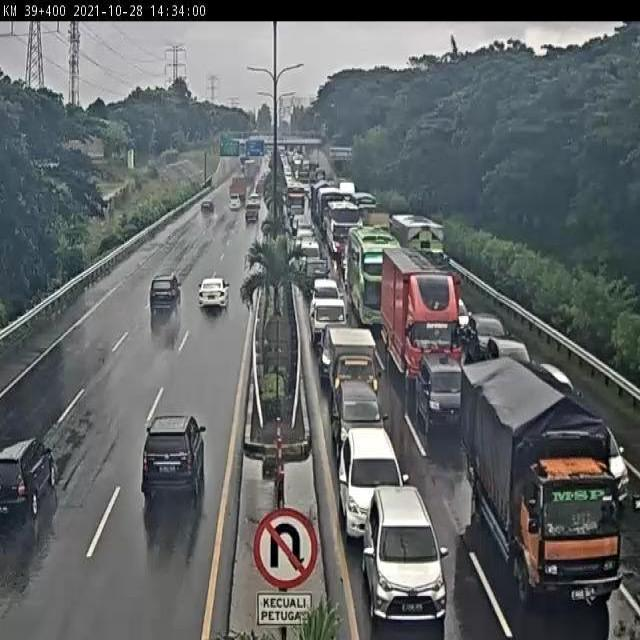bus-l-: (348, 228, 401, 329), (322, 202, 362, 258)
car: (360, 489, 449, 623), (334, 429, 409, 539), (567, 406, 631, 506), (142, 416, 206, 503), (416, 350, 472, 438), (322, 328, 384, 405), (327, 382, 389, 458), (309, 296, 350, 352), (466, 313, 508, 360), (487, 337, 530, 375), (148, 272, 182, 317), (198, 277, 231, 316), (298, 258, 330, 298), (447, 293, 470, 335), (296, 238, 320, 266), (312, 278, 340, 302), (294, 222, 312, 242)
truck-l-: (468, 362, 621, 598), (380, 247, 459, 393)
